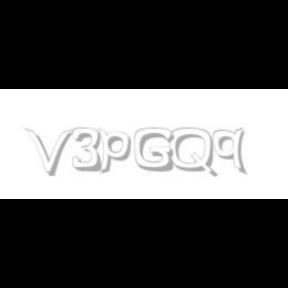3: (73, 128, 104, 172)
G: (134, 128, 174, 172)
Q: (170, 128, 216, 178)
V: (25, 128, 73, 176)
p: (98, 128, 134, 174)
q: (212, 128, 248, 176)
